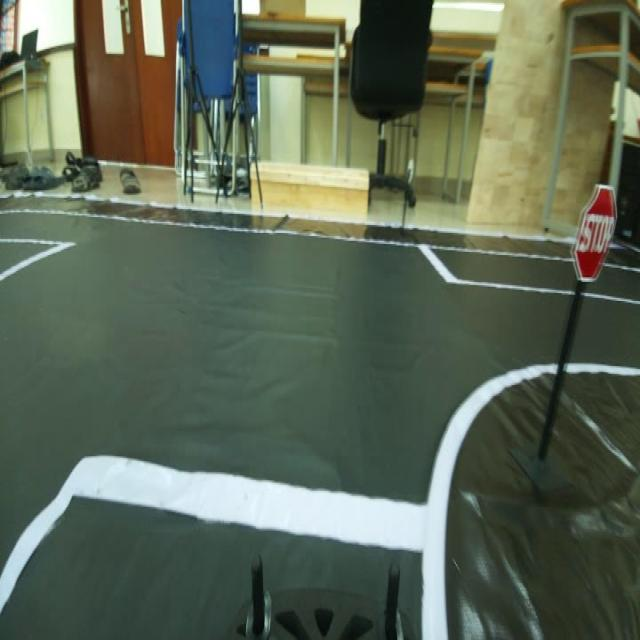stop: (569, 177, 616, 281)
